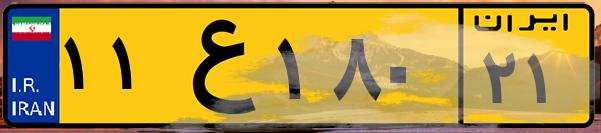0: (385, 28, 445, 110)
1: (270, 28, 330, 110), (57, 26, 110, 100), (525, 38, 570, 115), (110, 28, 158, 98)
2: (475, 38, 525, 113)
8: (330, 28, 385, 110)
ع: (158, 12, 270, 120)
